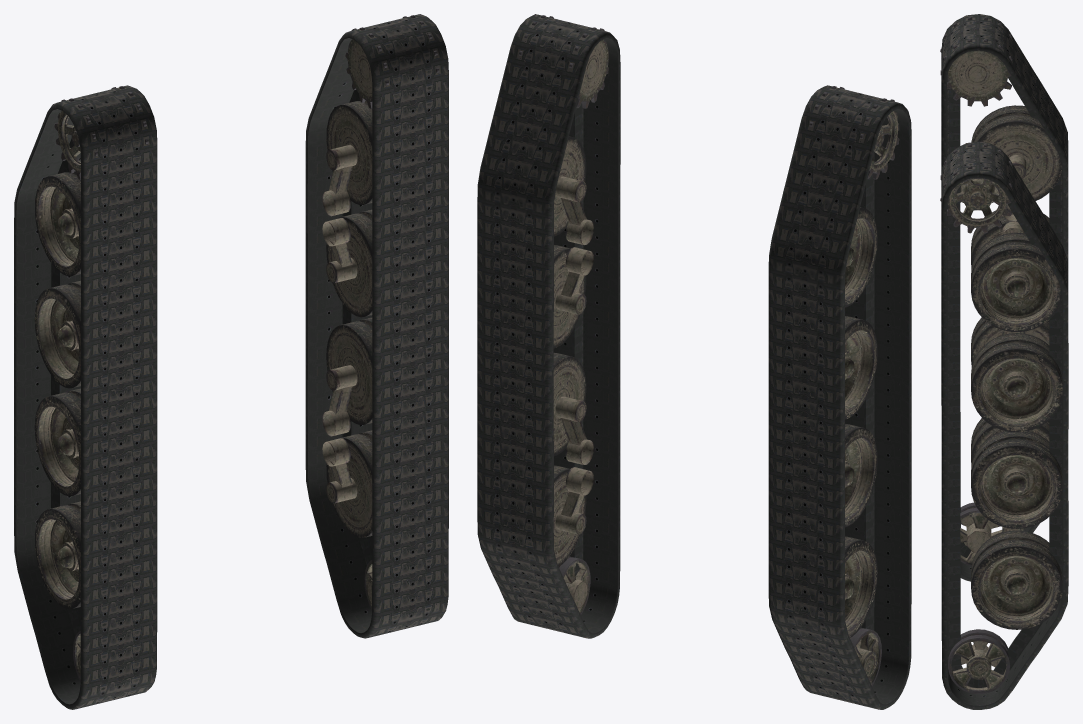
File: Chassis.glb
3 views of the same model, side by side, from view 1: azimuth 30°, elevation 25°; view 2: azimuth 150°, elevation 25°; view 3: azimuth 270°, elevation 25° (orthographic). The views are drawn at different scales.
Parts seen in each view (by area): view 1: set_2_group_0, set_3_group_0, set_1_group_0, set_0_group_0; view 2: set_2_group_0, set_3_group_0, set_1_group_0, set_0_group_0; view 3: set_1_group_0, set_3_group_0, set_0_group_0, set_2_group_0.
Boxes of the visible parts, left/top/right/bottom form: set_2_group_0: left=14, top=85, right=157, bottom=709; set_3_group_0: left=305, top=14, right=448, bottom=638; set_1_group_0: left=322, top=15, right=439, bottom=610; set_0_group_0: left=34, top=86, right=148, bottom=682; set_2_group_0: left=768, top=85, right=911, bottom=709; set_3_group_0: left=477, top=14, right=620, bottom=638; set_1_group_0: left=519, top=15, right=608, bottom=614; set_0_group_0: left=809, top=86, right=899, bottom=685; set_1_group_0: left=940, top=144, right=1062, bottom=693; set_3_group_0: left=941, top=141, right=1068, bottom=709; set_0_group_0: left=940, top=17, right=1062, bottom=565; set_2_group_0: left=941, top=14, right=1068, bottom=581.
Bounding box in the file's own units: 3.3 × 5.2 × 1.12.
4 materials, 4 textured.
